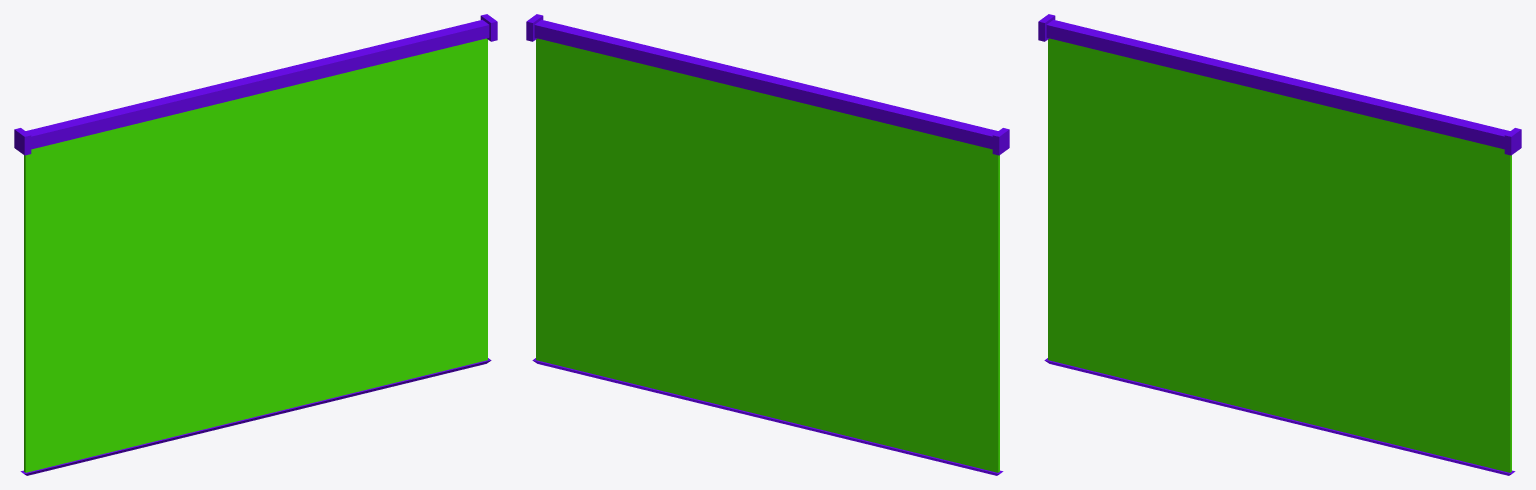
File: проектор.fbx
3 views of the same model, side by side, from view 1: azimuth 30°, elevation 25°; view 2: azimuth 150°, elevation 25°; view 3: azimuth 330°, elevation 25° (orthographic).
Parts seen in each view (by area): view 1: Cube.005; view 2: Cube.005; view 3: Cube.005.
Boxes of the visible parts, box(x1,y1,x2,y2) form: Cube.005: box(14, 14, 497, 475); Cube.005: box(526, 14, 1009, 475); Cube.005: box(1038, 14, 1521, 475).
Bounding box in the file's own units: 8.66 × 6.02 × 0.3277.
